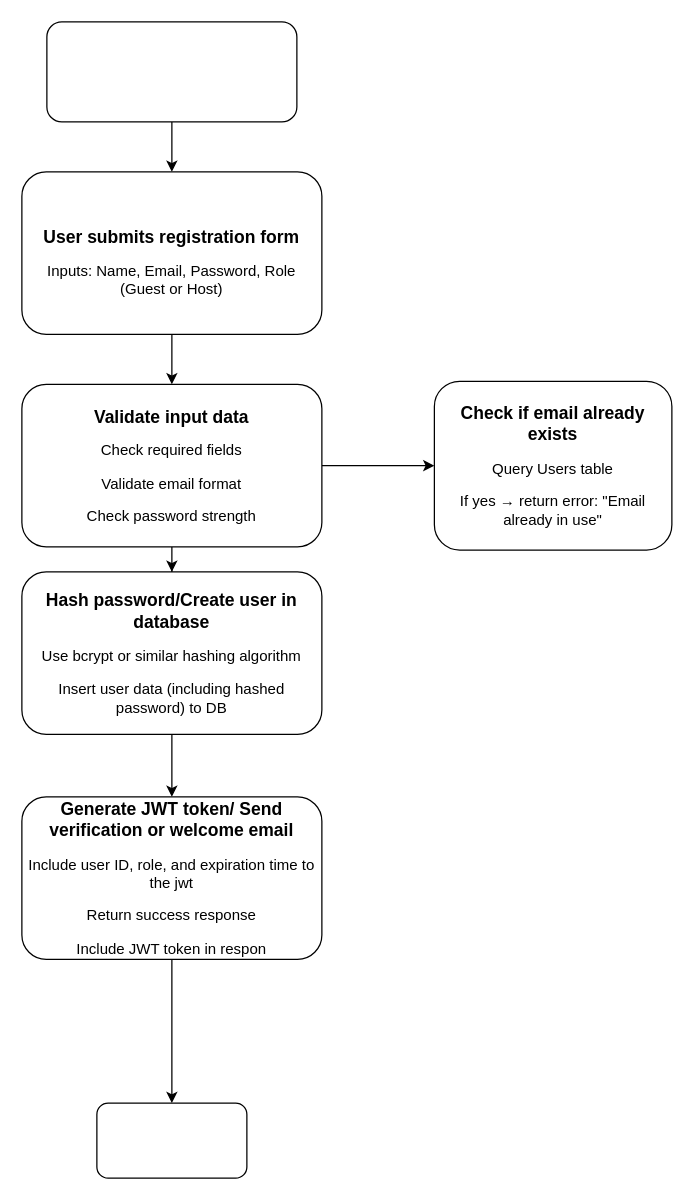
The diagram is 694 pixels wide and 1200 high, and some of its shapes have lost their labels. The box of each missing label's shape, as (x1, y1, x2, y2) in pixels:
END: (96, 1102, 247, 1178)
START: (46, 21, 297, 122)
